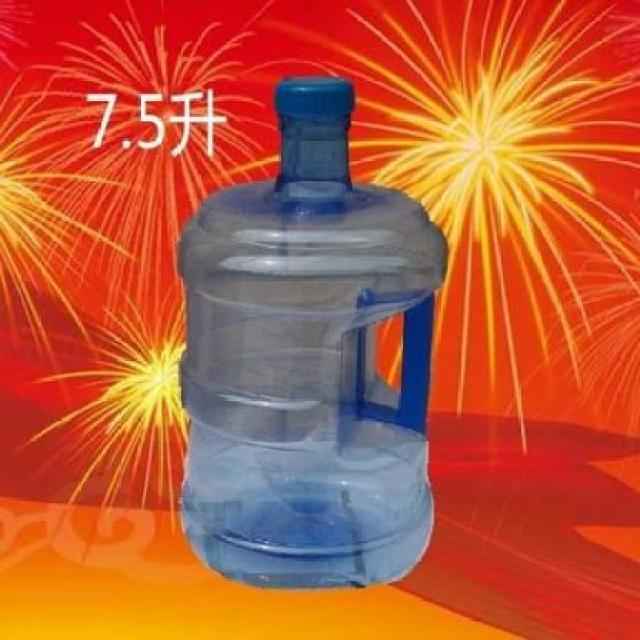coolerbottle: (174, 69, 453, 592)
